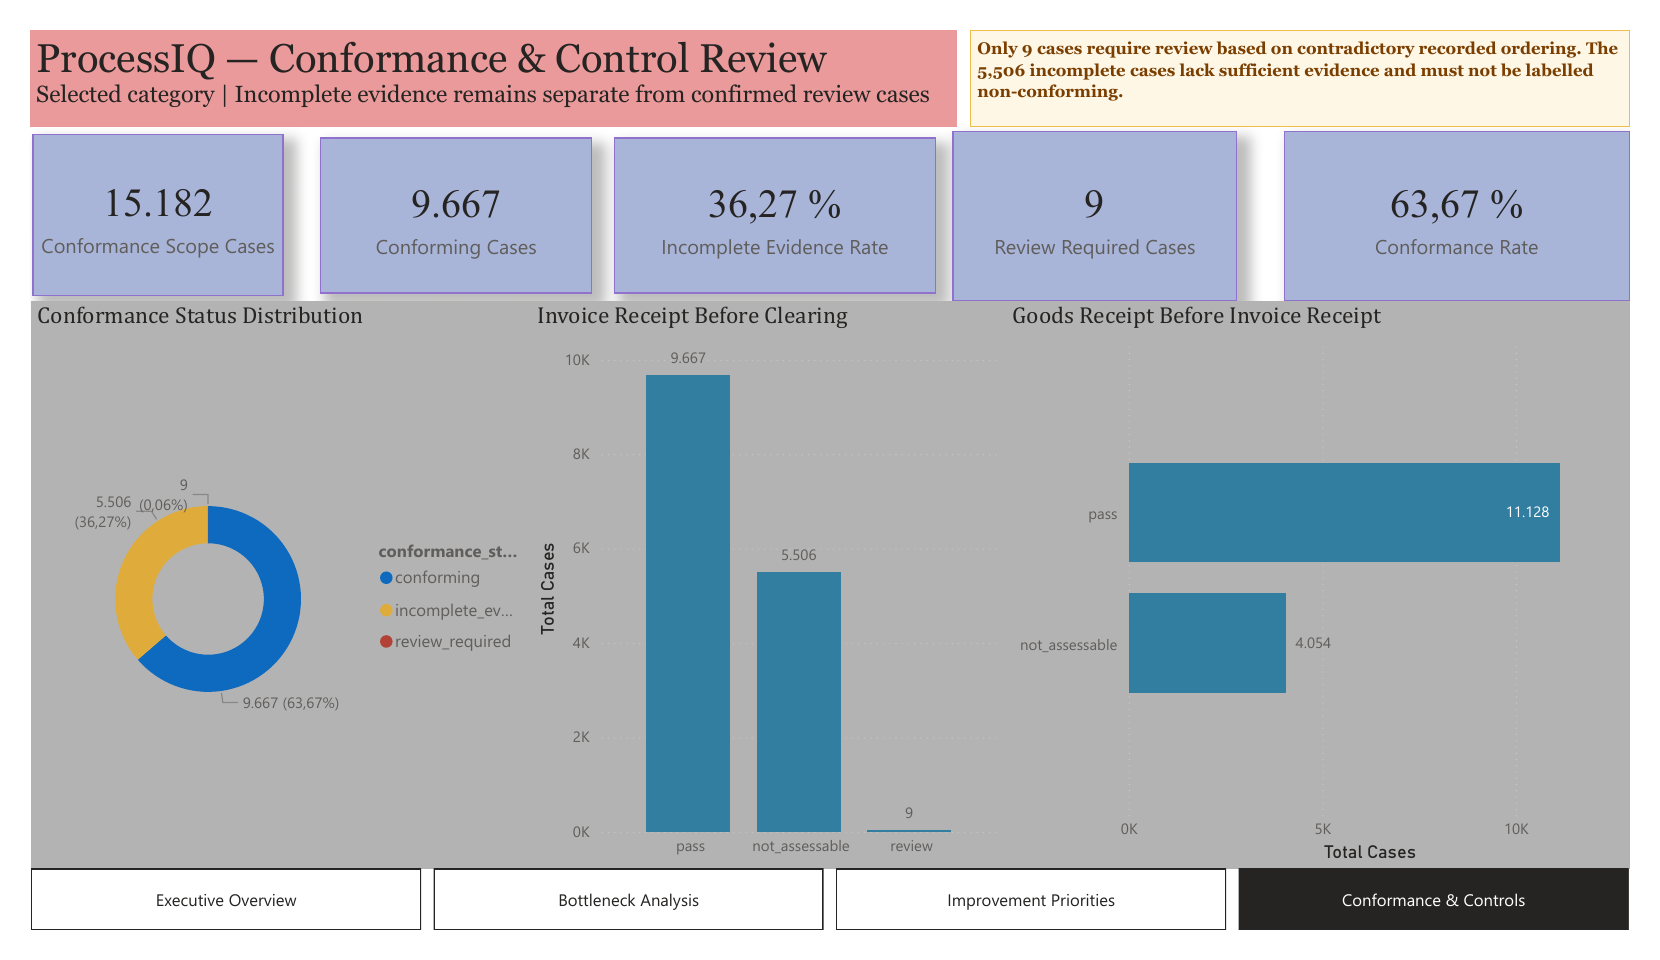

The page's visual inventory and layout, read from the dashboard file:
{"tool":"powerbi","page":{"name":"Conformance & Controls","canvas":[1280,720],"ordinal":3},"visuals":[{"type":"textbox","box":[0,0,741.7,78.3],"z":0},{"type":"card","fields":{"Values":["dashboard_cases.Conformance Scope Cases"]},"box":[1.7,83.3,201.7,130],"z":1000},{"type":"card","fields":{"Values":["dashboard_cases.Conforming Cases"]},"box":[231.9,86.4,218.2,124.9],"z":2000},{"type":"card","fields":{"Values":["dashboard_cases.Incomplete Evidence Rate"]},"box":[466.6,86.4,258,124.9],"z":3000},{"type":"card","fields":{"Values":["dashboard_cases.Review Required Cases"]},"box":[738.3,81,227.8,135.8],"z":4000},{"type":"card","fields":{"Values":["dashboard_cases.Conformance Rate"]},"box":[1003.1,81,277.2,135.8],"z":5000},{"type":"donutChart","title":"Conformance Status Distribution","fields":{"Category":["dashboard_cases.conformance_status"],"Y":["dashboard_cases.Conformance Scope Cases"]},"box":[1.4,216.8,399.3,454.2],"z":6000},{"type":"clusteredBarChart","title":"Goods Receipt Before Invoice Receipt","fields":{"Category":["dashboard_cases.goods_receipt_before_invoice_receipt_rule"],"Y":["dashboard_cases.Total Cases"]},"box":[780.8,216.8,499.5,454.2],"z":7000},{"type":"clusteredColumnChart","title":"Invoice Receipt Before Clearing","fields":{"Category":["dashboard_cases.invoice_receipt_before_clearing_rule"],"Y":["dashboard_cases.Total Cases"]},"box":[400.7,216.8,380.1,454.2],"z":8000},{"type":"textbox","box":[752,0,528.3,78.2],"z":9000},{"type":"pageNavigator","box":[1.4,671,1278.9,49.4],"z":10000}]}

Visuals, with their boxes in screenshot pixels (x1, y1, x2, y2), scaled from the page's 1280x720 canvas onto the 1660x960 screenshot:
textbox: box(0, 0, 962, 104)
card - dashboard_cases.Conformance Scope Cases: box(2, 111, 264, 284)
card - dashboard_cases.Conforming Cases: box(301, 115, 584, 282)
card - dashboard_cases.Incomplete Evidence Rate: box(605, 115, 940, 282)
card - dashboard_cases.Review Required Cases: box(957, 108, 1253, 289)
card - dashboard_cases.Conformance Rate: box(1301, 108, 1659, 289)
"Conformance Status Distribution" donutChart: box(2, 289, 520, 895)
"Goods Receipt Before Invoice Receipt" clusteredBarChart: box(1013, 289, 1659, 895)
"Invoice Receipt Before Clearing" clusteredColumnChart: box(520, 289, 1013, 895)
textbox: box(975, 0, 1659, 104)
pageNavigator: box(2, 895, 1659, 959)
